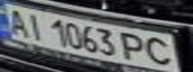0: (63, 20, 81, 51)
1: (42, 16, 69, 46)
3: (97, 26, 118, 59)
6: (78, 24, 100, 54)
A: (3, 6, 33, 37)
C: (142, 34, 178, 68)
I: (21, 11, 48, 42)
P: (118, 30, 151, 62)
